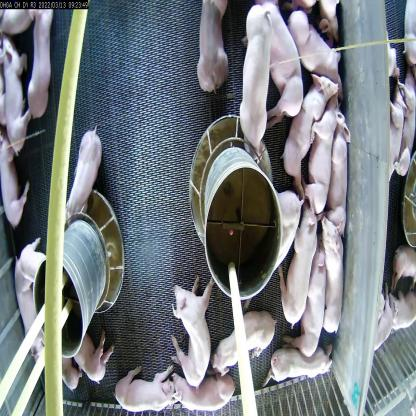Pig: (12, 238, 60, 390), (170, 264, 218, 396), (309, 194, 349, 341), (62, 100, 104, 234), (235, 0, 270, 150), (260, 0, 300, 125), (210, 294, 274, 371), (288, 5, 338, 96), (268, 333, 335, 398), (282, 80, 319, 181), (288, 206, 316, 336), (170, 360, 235, 416), (297, 236, 325, 365), (0, 28, 30, 144), (114, 365, 180, 416), (66, 327, 115, 393), (32, 0, 58, 122), (197, 0, 230, 90), (331, 105, 351, 243), (272, 179, 302, 258), (0, 147, 24, 233), (312, 102, 332, 204)
